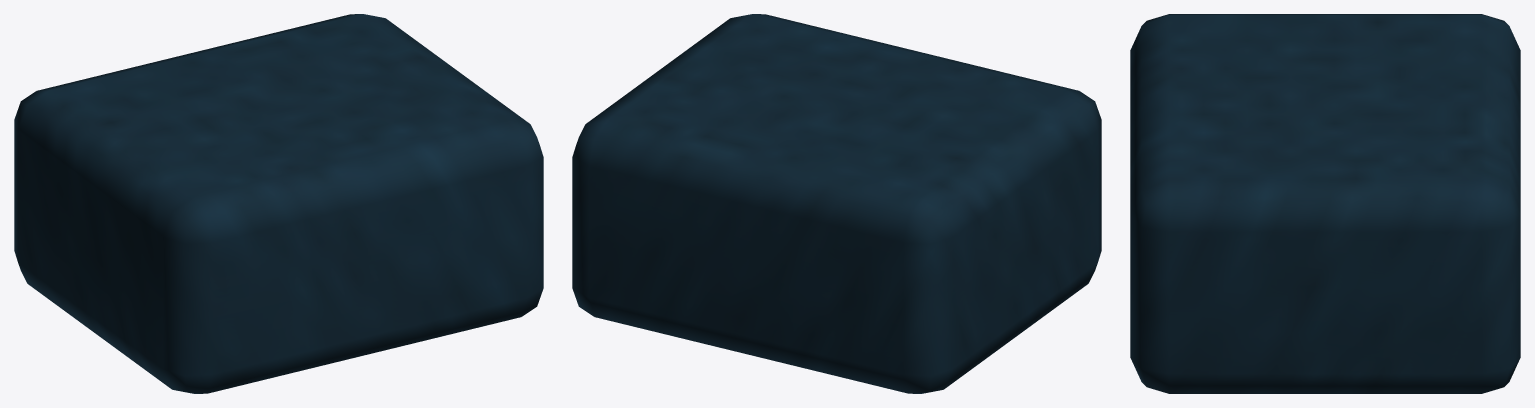
3 views of the same model, side by side, from view 1: azimuth 30°, elevation 25°; view 2: azimuth 150°, elevation 25°; view 3: azimuth 270°, elevation 25° (orthographic). The views are drawn at different scales.
Size of the model in its own units: 0.24 by 0.12 by 0.2.
1 material, 1 textured.
